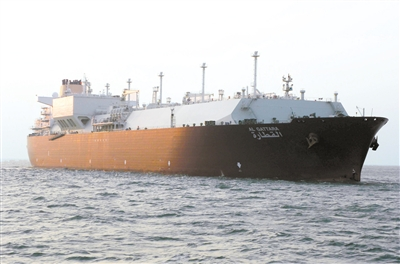Cargoship: (23, 64, 389, 180)
